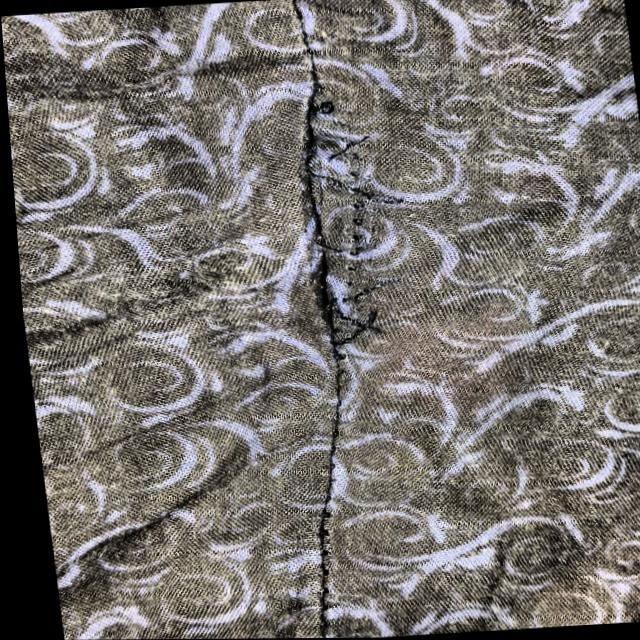seam: (196, 50, 443, 401)
